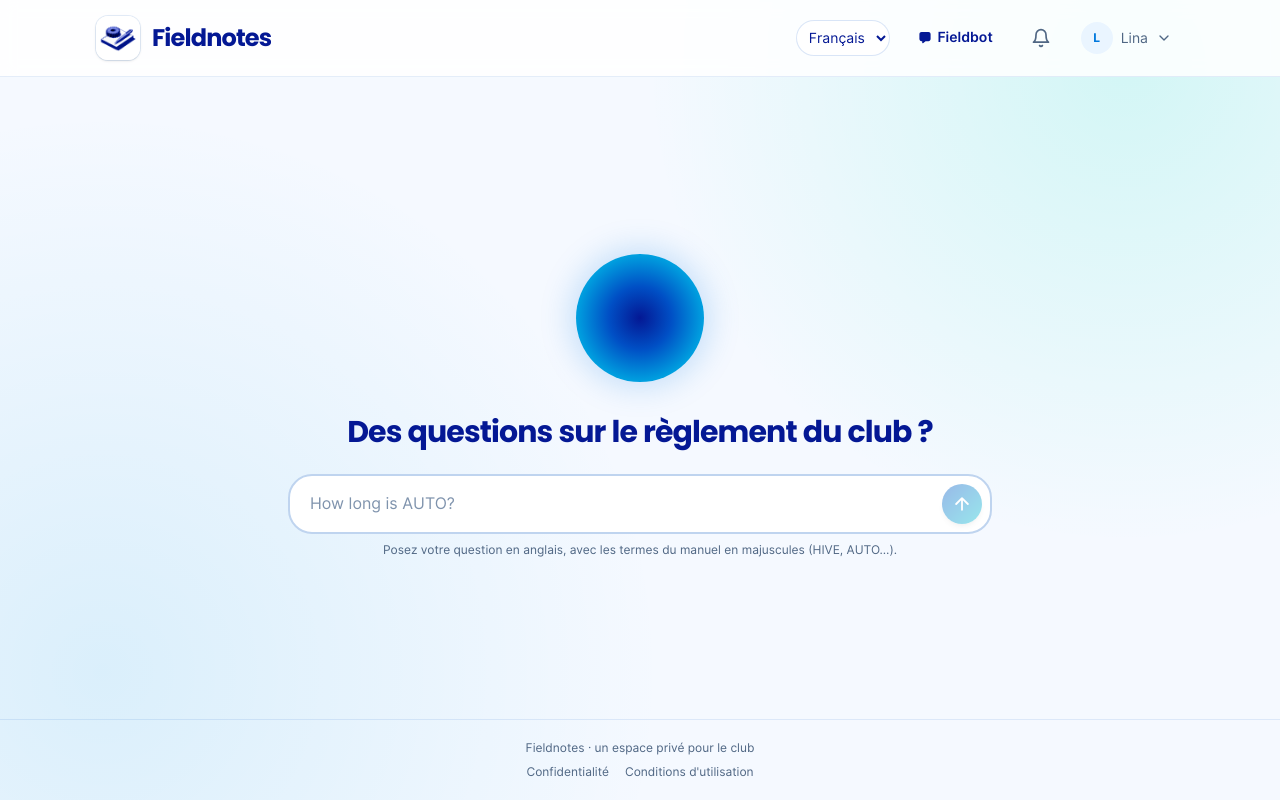
Test: shows a refusal by its code in Fieldbot's reply
In the text box named "Votre question sur le règlement": (622, 504) left=310, top=484, right=934, bottom=524, type "Une question"
Then press Enter
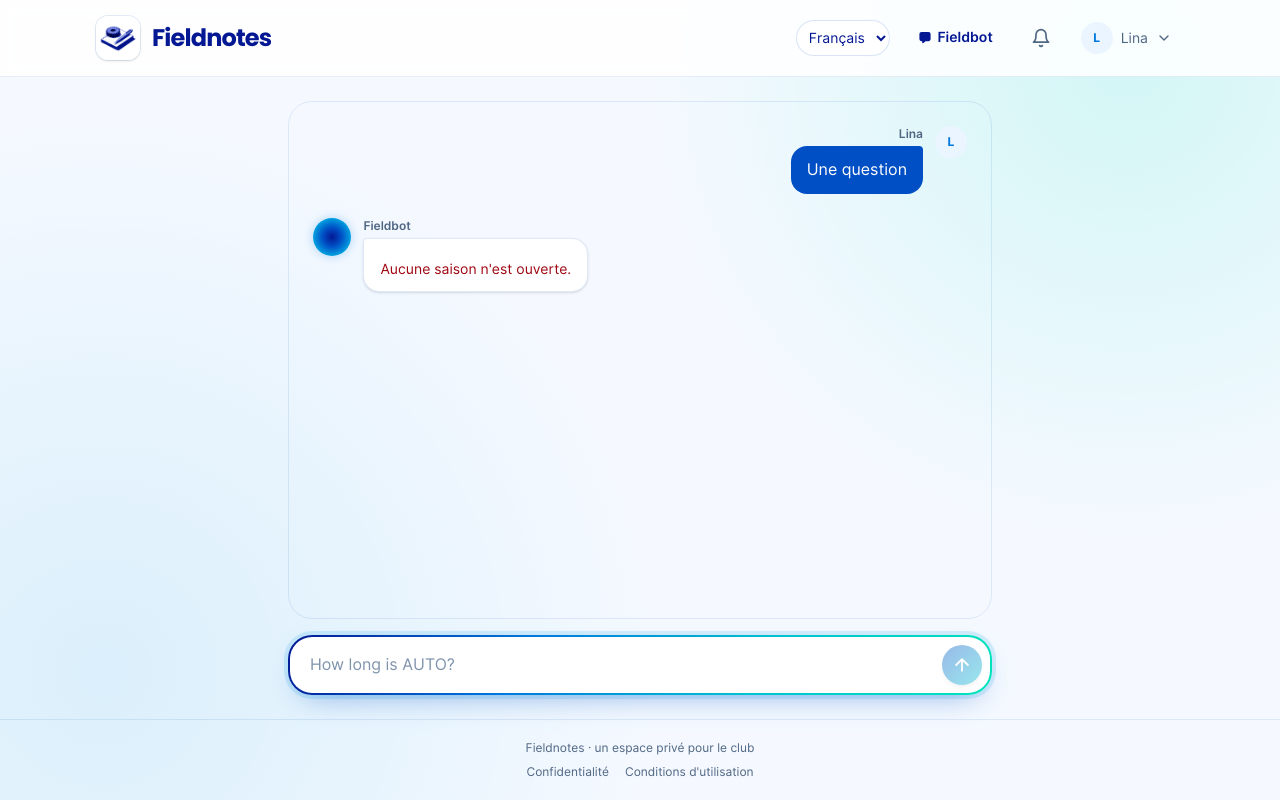
Expected: the message reads "Aucune saison n'est ouverte.", left=380, top=261, right=571, bottom=277
